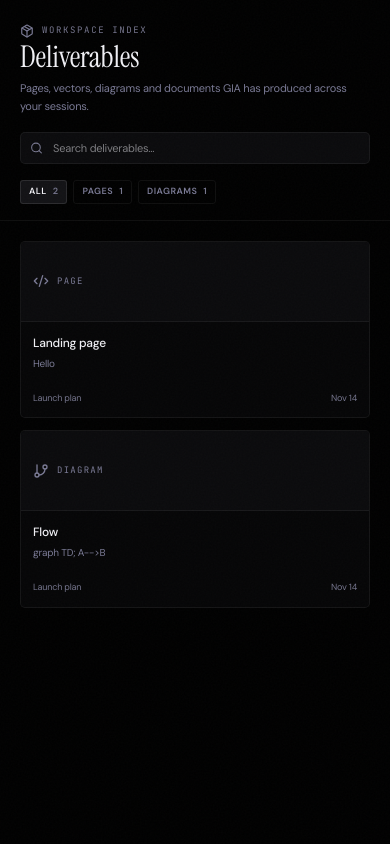
it: DeliverablesModule › filters by artifact kind
What coordinates should you click on to do the following:
click the button "Pages1"
I would click on:
 (103, 192)
Its box is top-left (74, 180), bottom-right (132, 204).
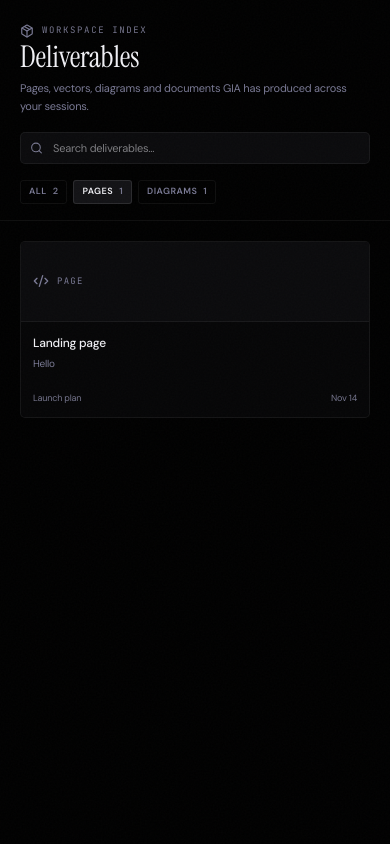
expect the text "Landing page" is shown: met, box top-left (33, 335), bottom-right (106, 351)
expect the button "Flow" is gone: met
